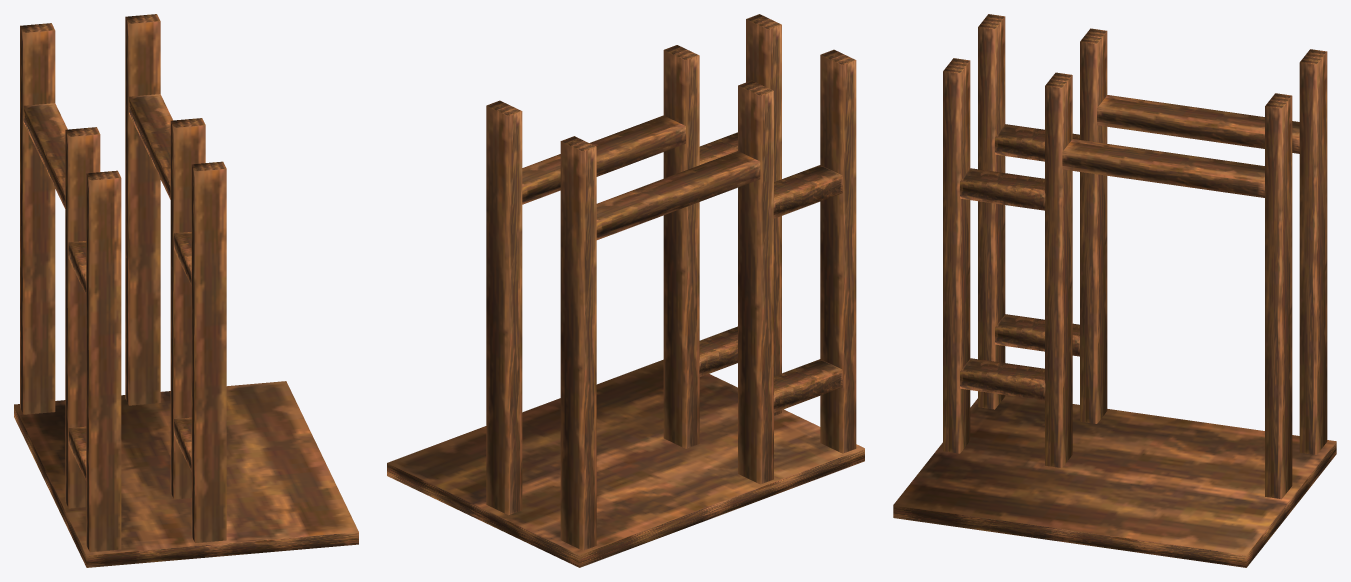
File: SWORDLIGHT20_PLATB_LOD1_04.fbx
The picture shows the model from 3 angles, left to right: view 1: azimuth 30°, elevation 25°; view 2: azimuth 150°, elevation 25°; view 3: azimuth 270°, elevation 25°; orthographic projection. The views are drawn at different scales.
Parts seen in each view (by area): view 1: SWORDLIGHT20_PLATB_LOD1_04; view 2: SWORDLIGHT20_PLATB_LOD1_04; view 3: SWORDLIGHT20_PLATB_LOD1_04.
Part boxes in pixels (<box>): SWORDLIGHT20_PLATB_LOD1_04: <box>14,14,358,567</box>; SWORDLIGHT20_PLATB_LOD1_04: <box>387,14,864,567</box>; SWORDLIGHT20_PLATB_LOD1_04: <box>893,14,1336,567</box>.
Size of the model in its own units: 25297 by 29035 by 28940.
1 material, 1 textured.
